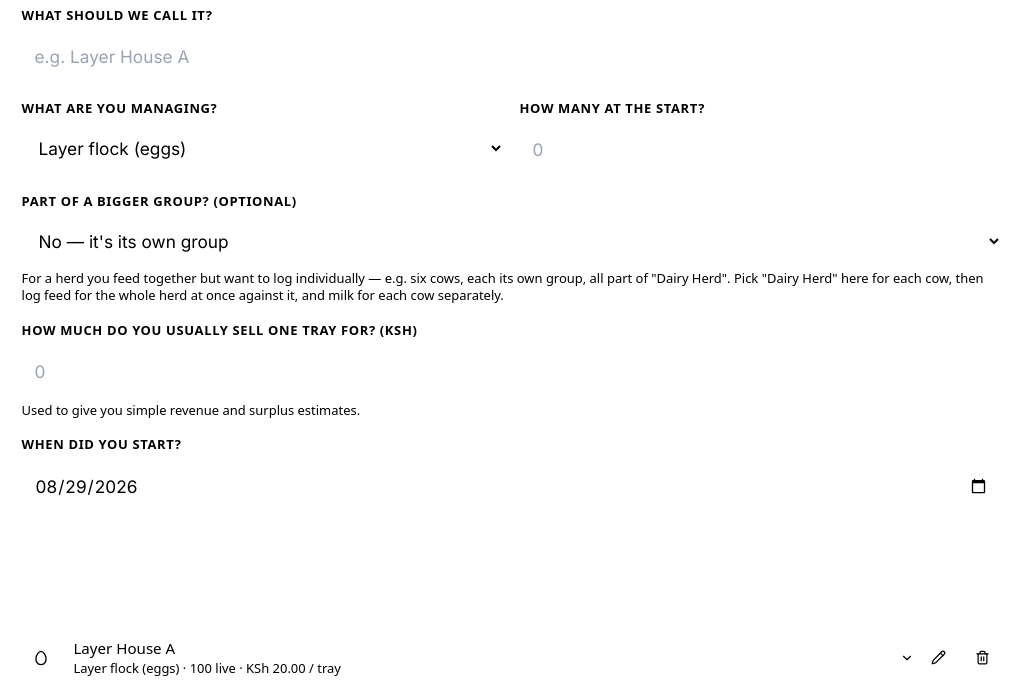
UnitsView — expandable mini-analytics snapshot › shows Profit instead of Cost/unit once the unit has a selling price
(page scrolled)
Click the text "Layer House A" at [124, 648], box [73,638,175,658]
(page scrolled)
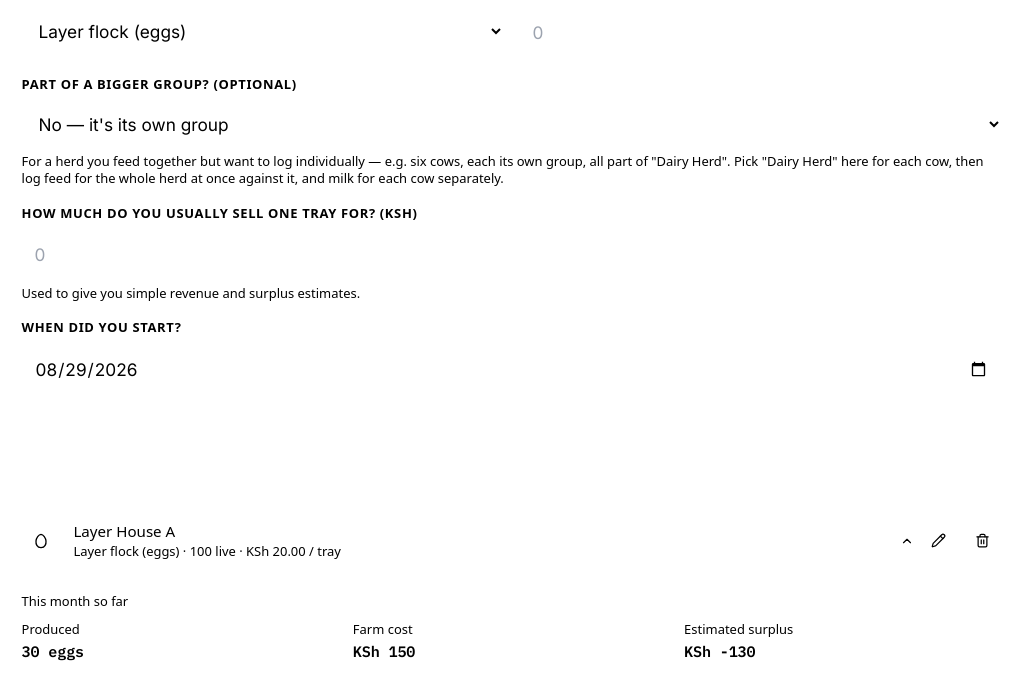
Now the text "Estimated surplus" is shown, box [684,620,793,638]
